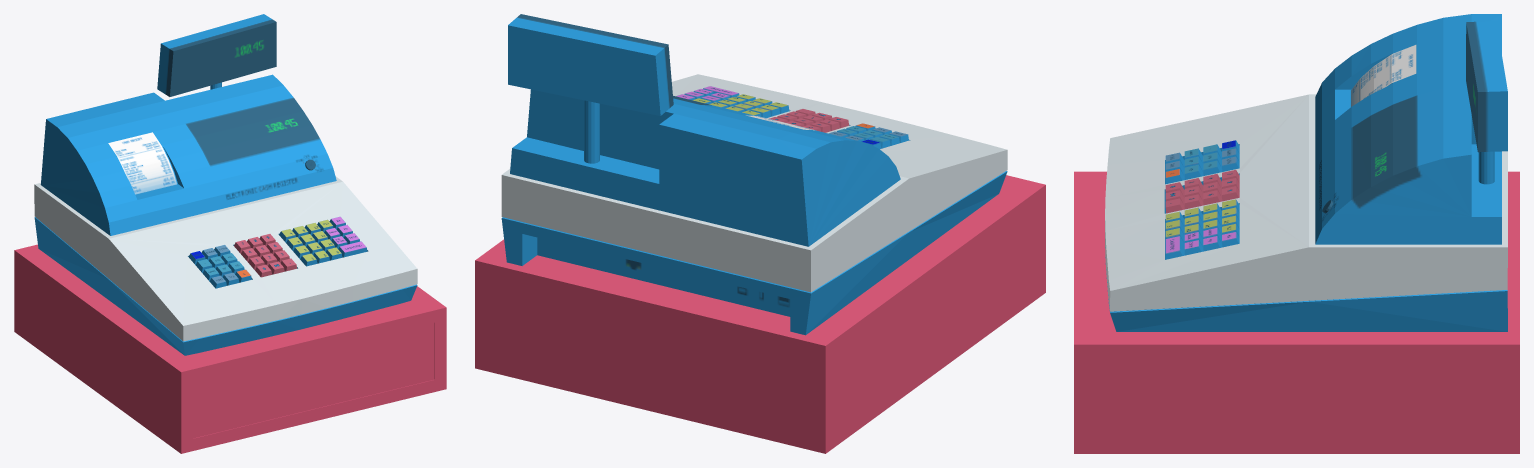
Rendered from cash machine 01.fbx.
The picture shows the model from 3 angles, left to right: view 1: azimuth 30°, elevation 25°; view 2: azimuth 150°, elevation 25°; view 3: azimuth 270°, elevation 25°; orthographic projection. The views are drawn at different scales.
Parts seen in each view (by area): view 1: cash_machine_01; view 2: cash_machine_01; view 3: cash_machine_01.
Boxes of the visible parts, x1=… form: cash_machine_01: x1=14, y1=14, x2=446, y2=453; cash_machine_01: x1=475, y1=14, x2=1045, y2=453; cash_machine_01: x1=1074, y1=14, x2=1519, y2=453.
Bounding box in the file's own units: 34 × 32 × 37.
